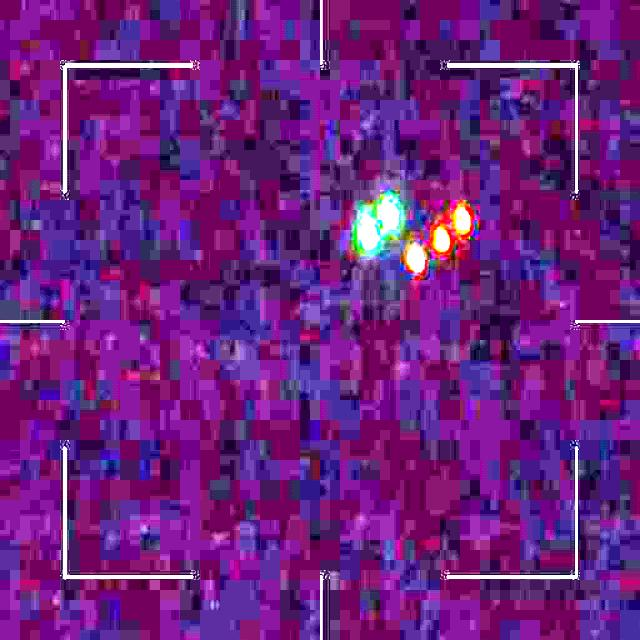bird: (356, 199, 472, 271)
